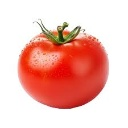tomato: (18, 28, 109, 109)
